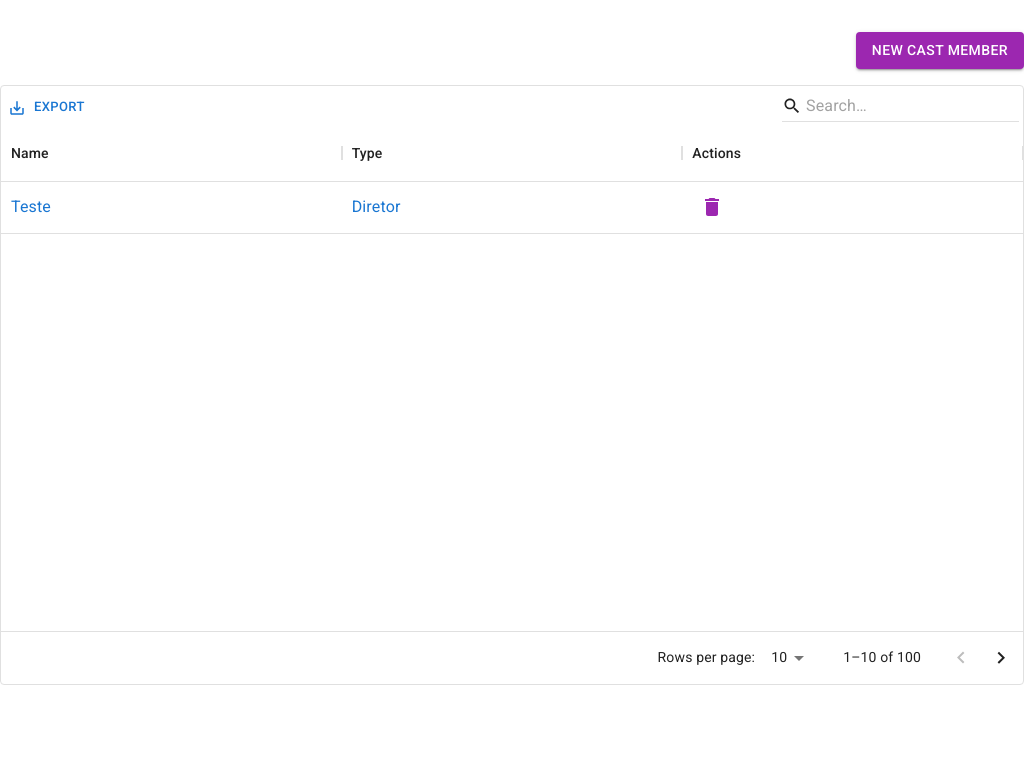
Test: ListCastMembers › should handle Delete Cast Member success
The image size is (1036, 768).
Expected: the text "Teste" is shown, [11, 195, 51, 219]
Click the button with test id "delete-button".
click(712, 207)  # box [692, 187, 732, 227]
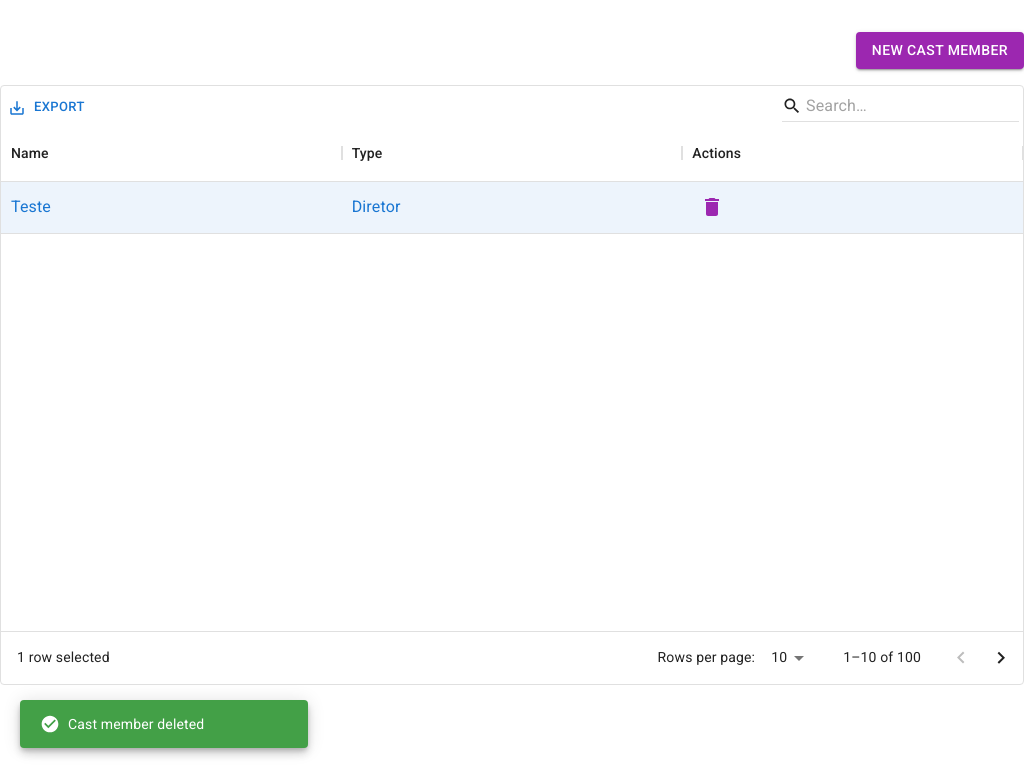
Result: the text "Cast member deleted" is shown at [40, 714, 204, 734]
